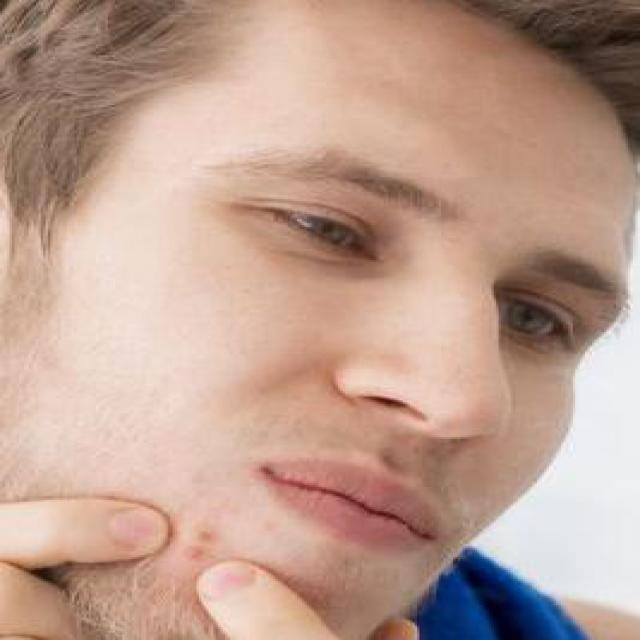blackheads: (194, 524, 221, 546)
